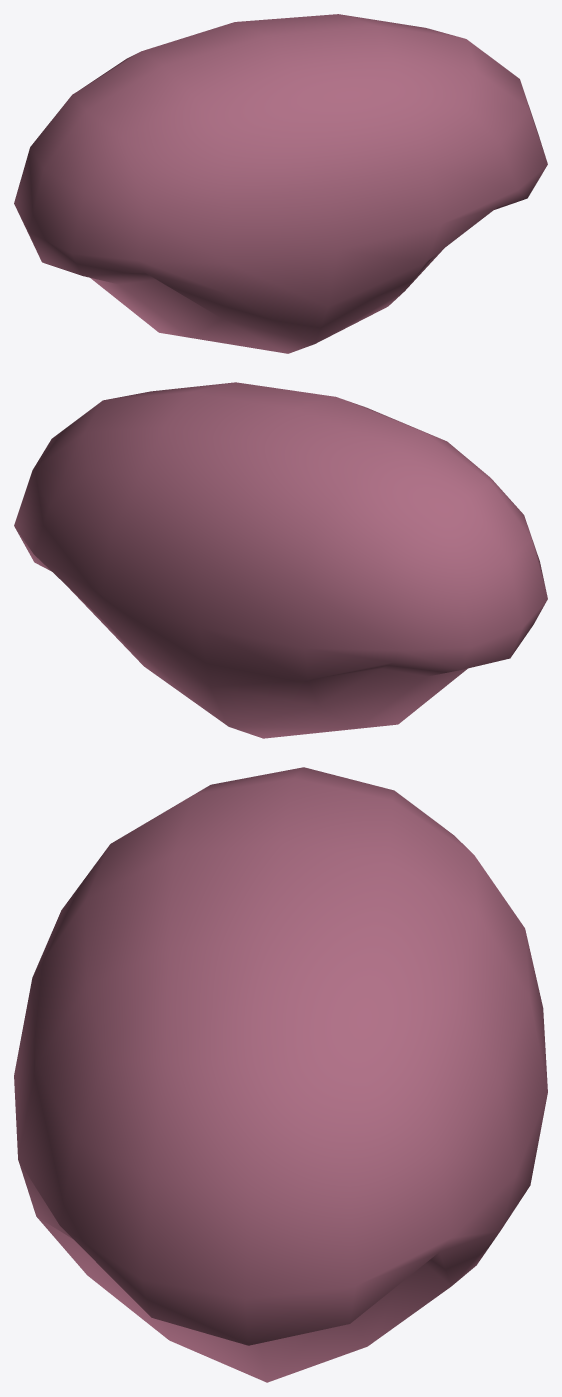
Rendered from nose3.fbx.
3 views of the same model, one above another, from view 1: azimuth 30°, elevation 25°; view 2: azimuth 150°, elevation 25°; view 3: azimuth 270°, elevation 25° (orthographic). The views are drawn at different scales.
Visible parts, largest first — view 1: nose3; view 2: nose3; view 3: nose3.
Part boxes in pixels (bbox=[...]): nose3: bbox=[14, 14, 547, 353]; nose3: bbox=[14, 382, 547, 738]; nose3: bbox=[14, 767, 547, 1382].
Bounding box in the file's own units: 5.4 × 3.17 × 3.16.
